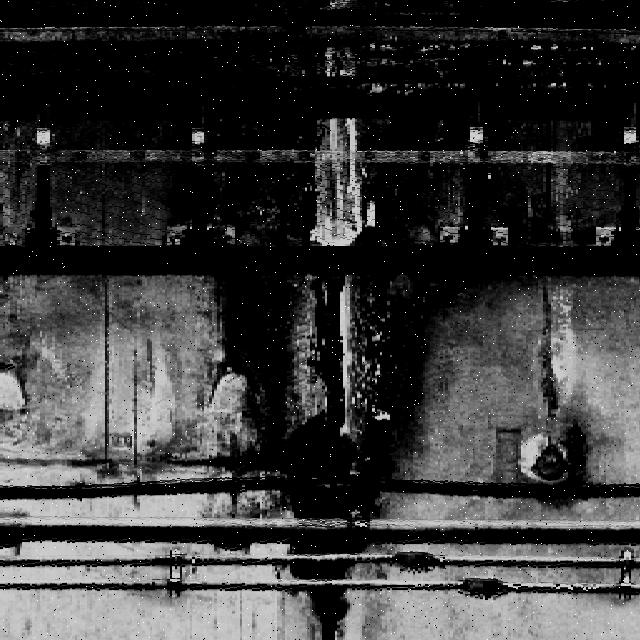leakage: (193, 119, 474, 639)
